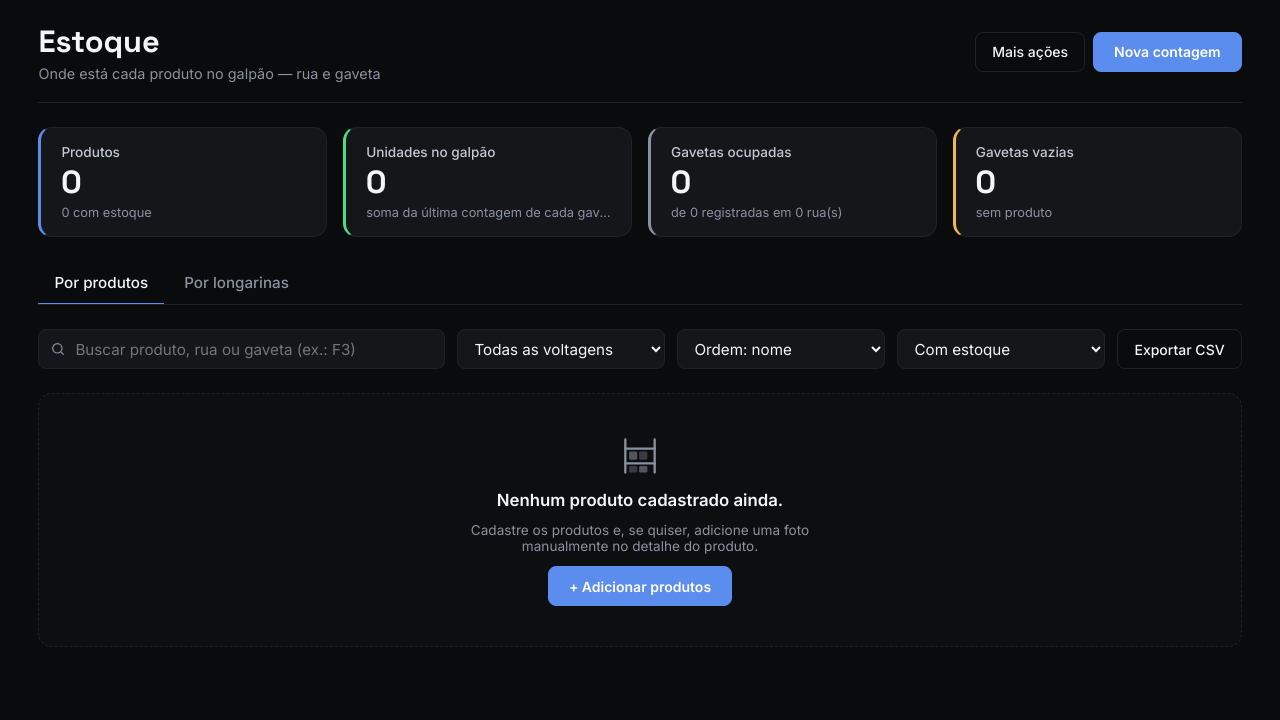
Test: Estoque › só oferece cadastro de produtos pela busca do Tiny
Click the button "+ Adicionar produtos": {"x": 640, "y": 586} [548,566,732,606]
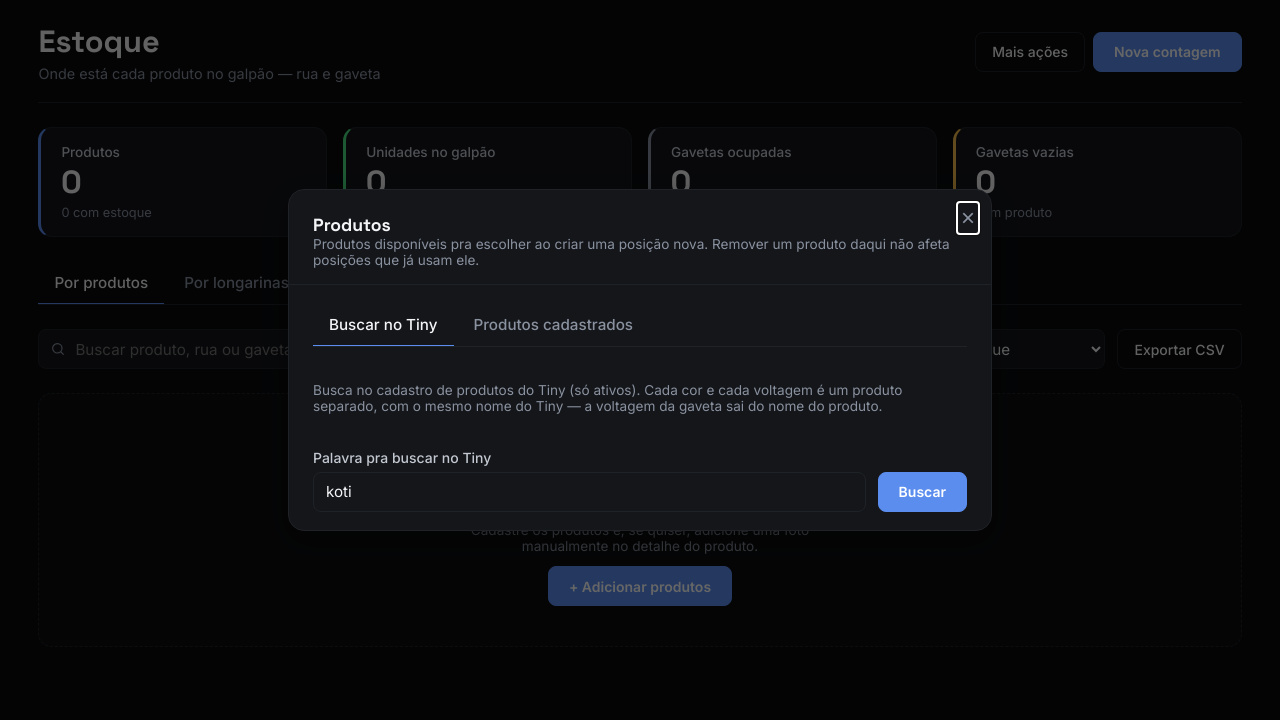
Check: the tab "Produtos cadastrados" is shown, box [458,303,649,347]
